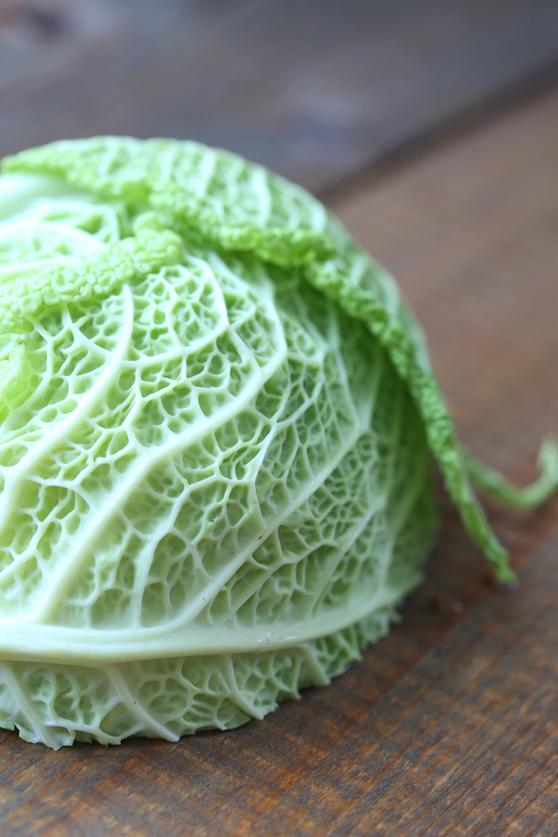cabbage: (2, 134, 536, 742)
